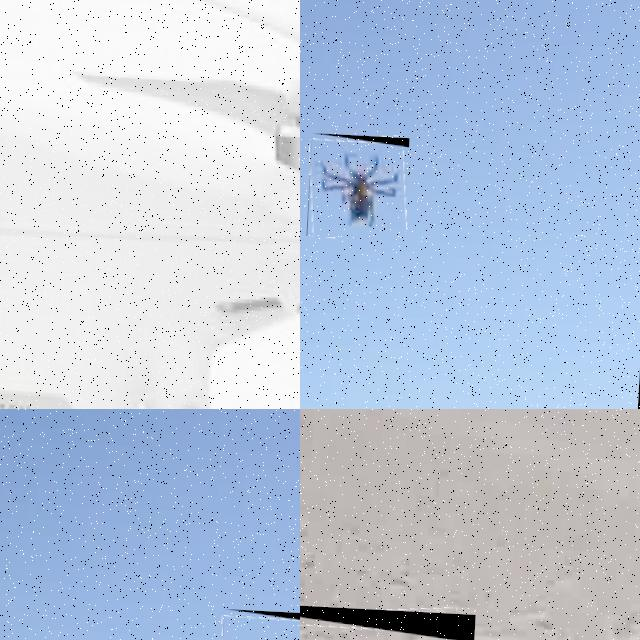drone: (0, 0, 300, 409), (306, 133, 409, 241)
